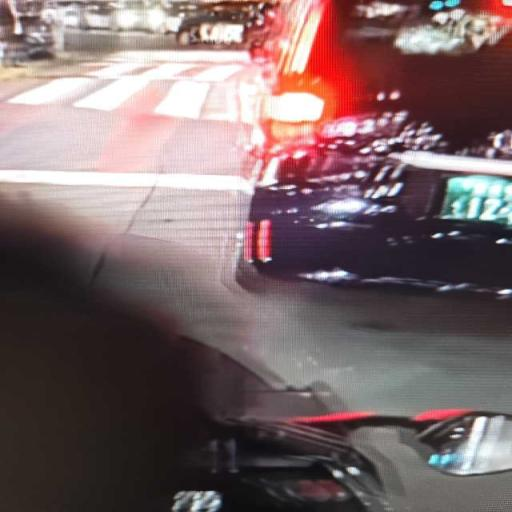car: (237, 2, 511, 297), (0, 5, 53, 65), (177, 3, 251, 45), (109, 0, 166, 31), (20, 15, 54, 55), (41, 2, 89, 29)
lane: (0, 81, 511, 414), (0, 56, 257, 173)
person: (0, 198, 202, 511)
